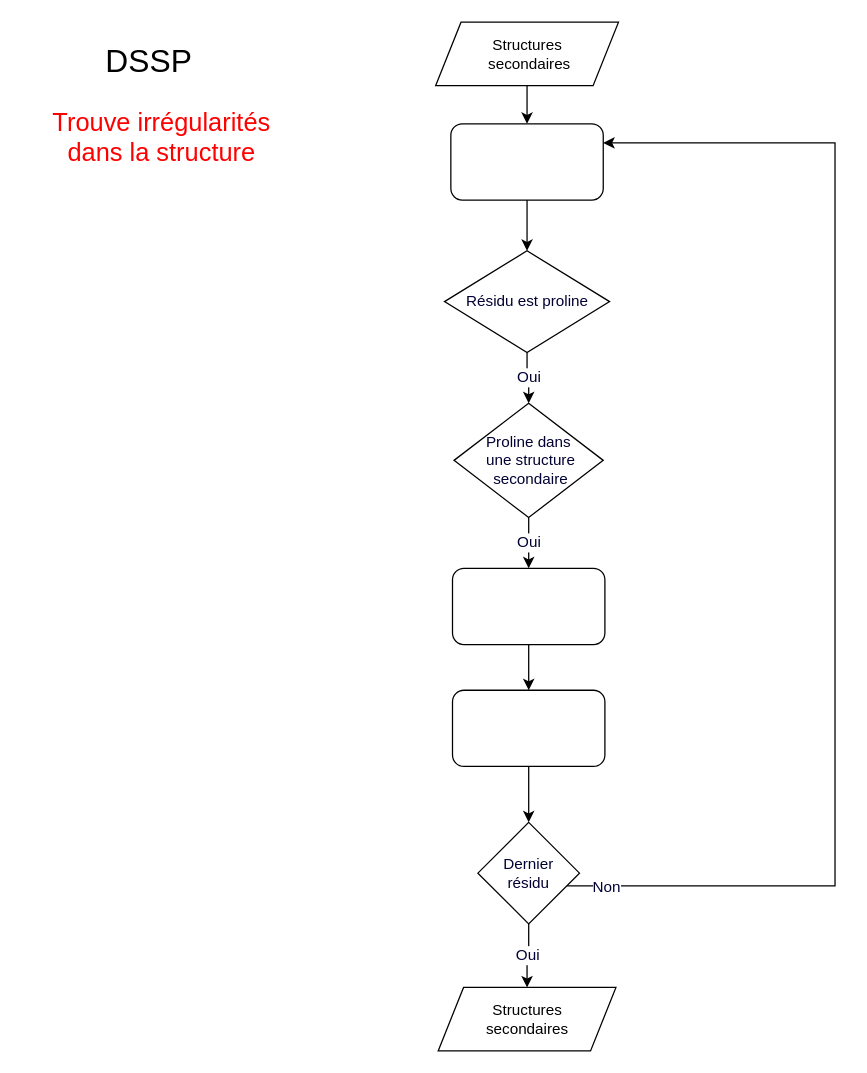
Some shapes in this 867 by 1073 pixel diagram are drawn without their labels. Each missing label, with the centre of its shape:
"Indique fin d'une structure et début d'une autre" belongs at [528,727].
"Retire le résidu de la structure secondaire" belongs at [528,606].
"Résidu suivant" belongs at [526,161].
